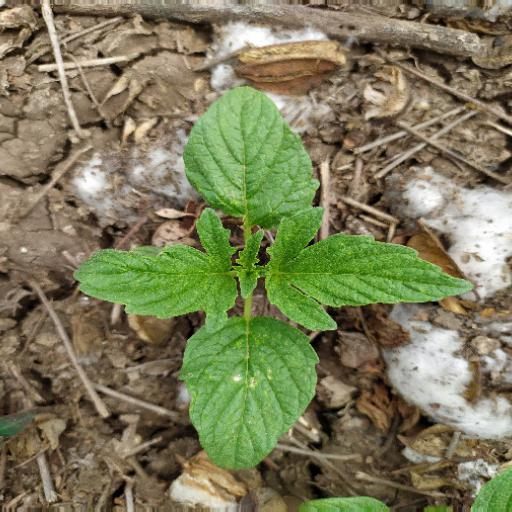weed: (71, 71, 483, 479)
